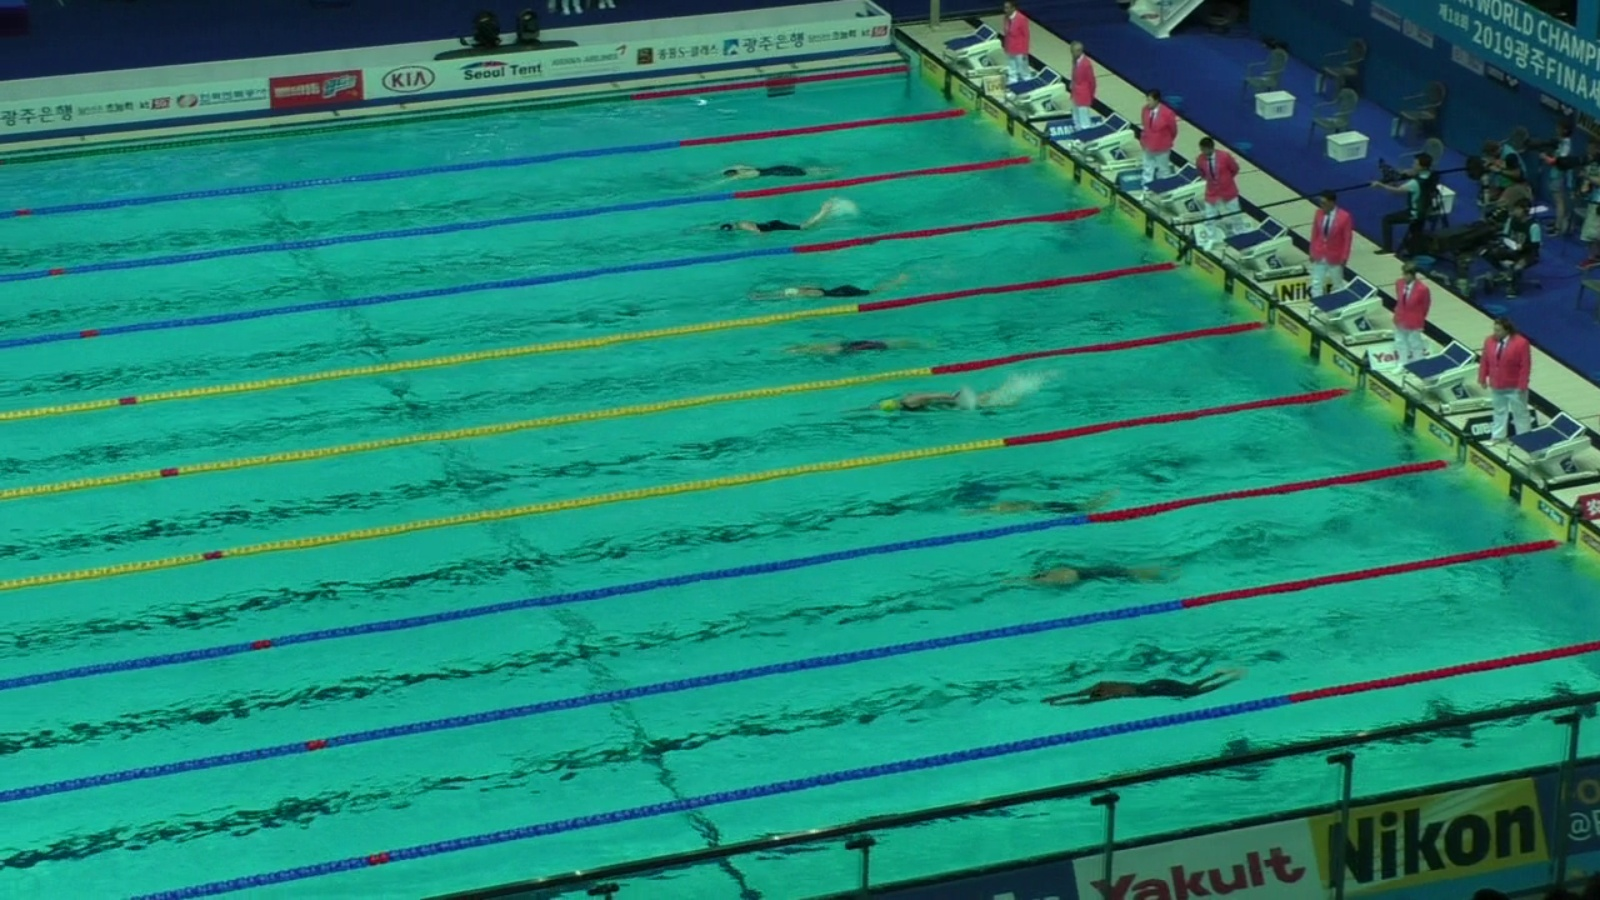swimmerwdd: (1038, 667, 1234, 708), (962, 495, 1129, 527), (758, 284, 922, 312), (795, 336, 933, 367), (1027, 560, 1202, 585), (716, 212, 869, 240), (879, 392, 1041, 415), (698, 160, 822, 184)
